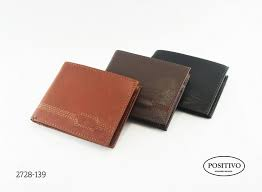monedero: (30, 61, 142, 149), (105, 50, 192, 131), (151, 50, 229, 118)
